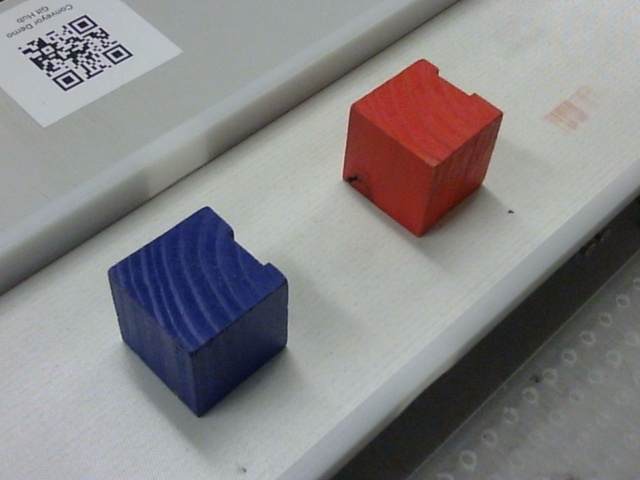BlueBlock: (107, 207, 289, 418)
RedBlock: (341, 57, 504, 238)
